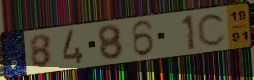1: (180, 13, 198, 52)
4: (62, 28, 85, 66)
6: (131, 19, 157, 58)
8: (97, 22, 126, 62), (28, 33, 54, 69)
C: (196, 11, 228, 48)
